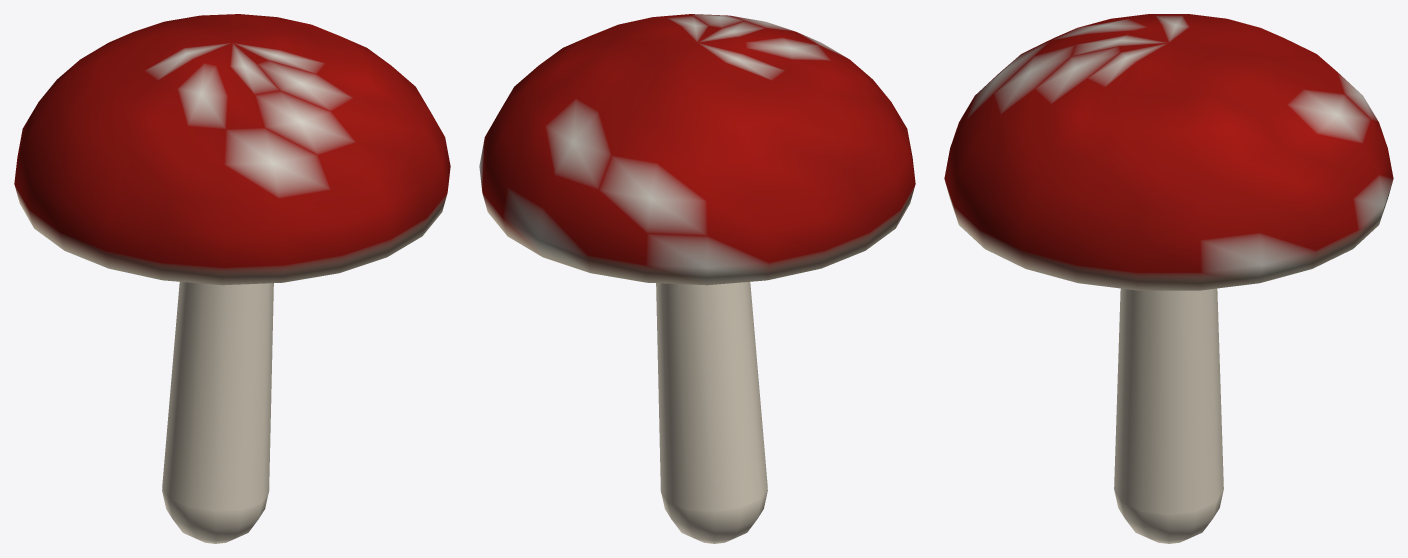
Rendered from MushroomRed.glb.
3 renders of one model, left to right at view 1: azimuth 30°, elevation 25°; view 2: azimuth 150°, elevation 25°; view 3: azimuth 270°, elevation 25°, orthographic. The views are drawn at different scales.
Visible parts, largest first — view 1: Cap, Stalk; view 2: Cap, Stalk; view 3: Cap, Stalk.
Boxes of the visible parts, x1,y1,x2,y2 form: Cap: (14, 14, 450, 285); Stalk: (162, 282, 273, 543); Cap: (479, 14, 915, 285); Stalk: (656, 282, 767, 543); Cap: (944, 14, 1393, 290); Stalk: (1114, 288, 1223, 543).
Bounding box in the file's own units: 0.0891 × 0.1115 × 0.09.
